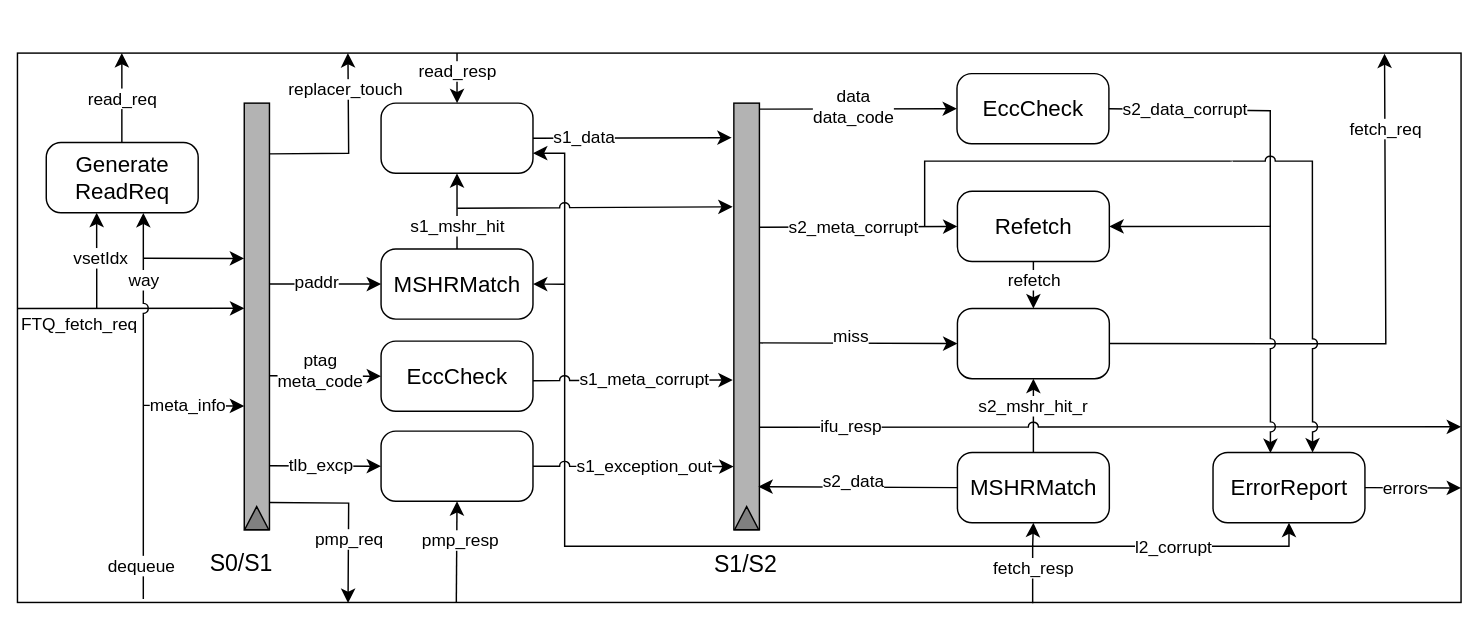
Image size: 1479x621. Some labels were removed from this diagram. The shapes that lost their labels are listed below. From the top down, each one's centre as x and y in pixels, then its label:
At pixel 457 138: "DataHold".
At pixel 1033 343: "MissHandle".
At pixel 457 466: "Except".
